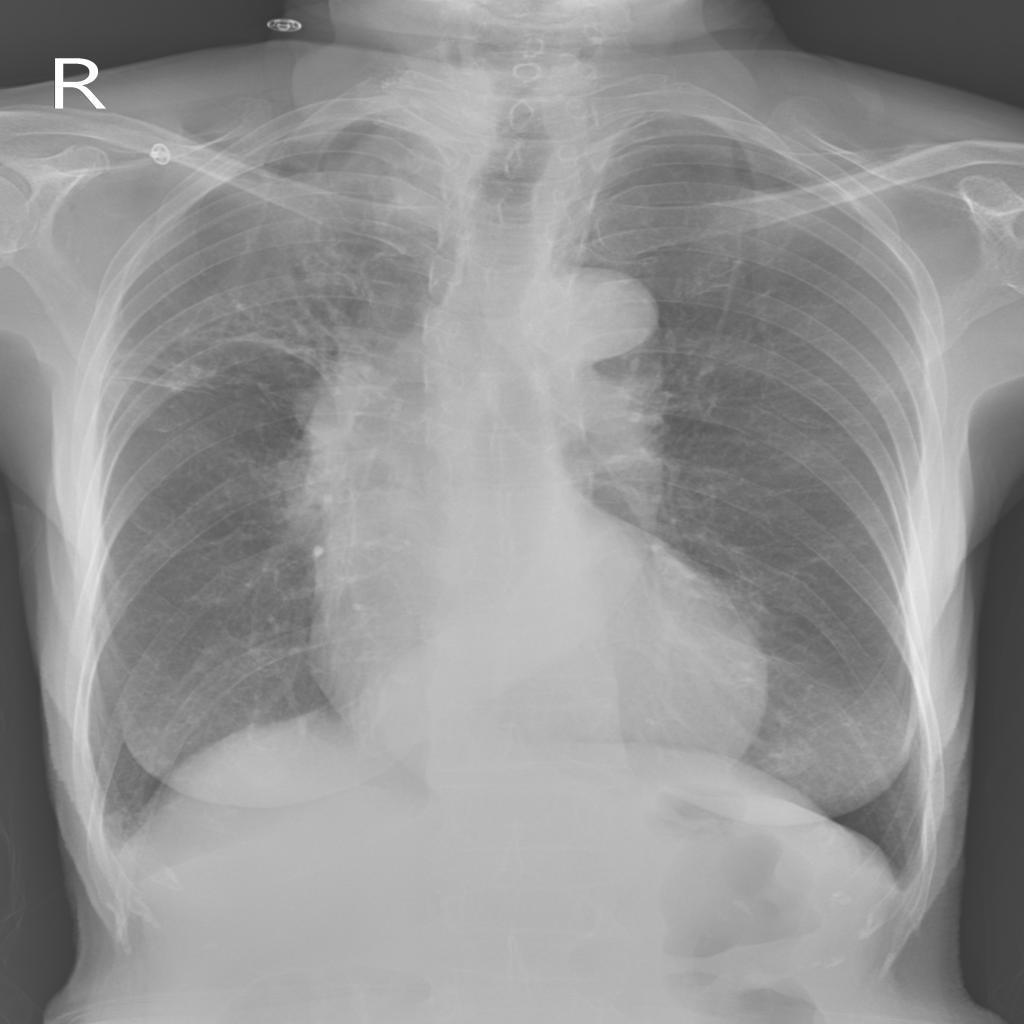Nodule: (766, 737, 823, 778)
